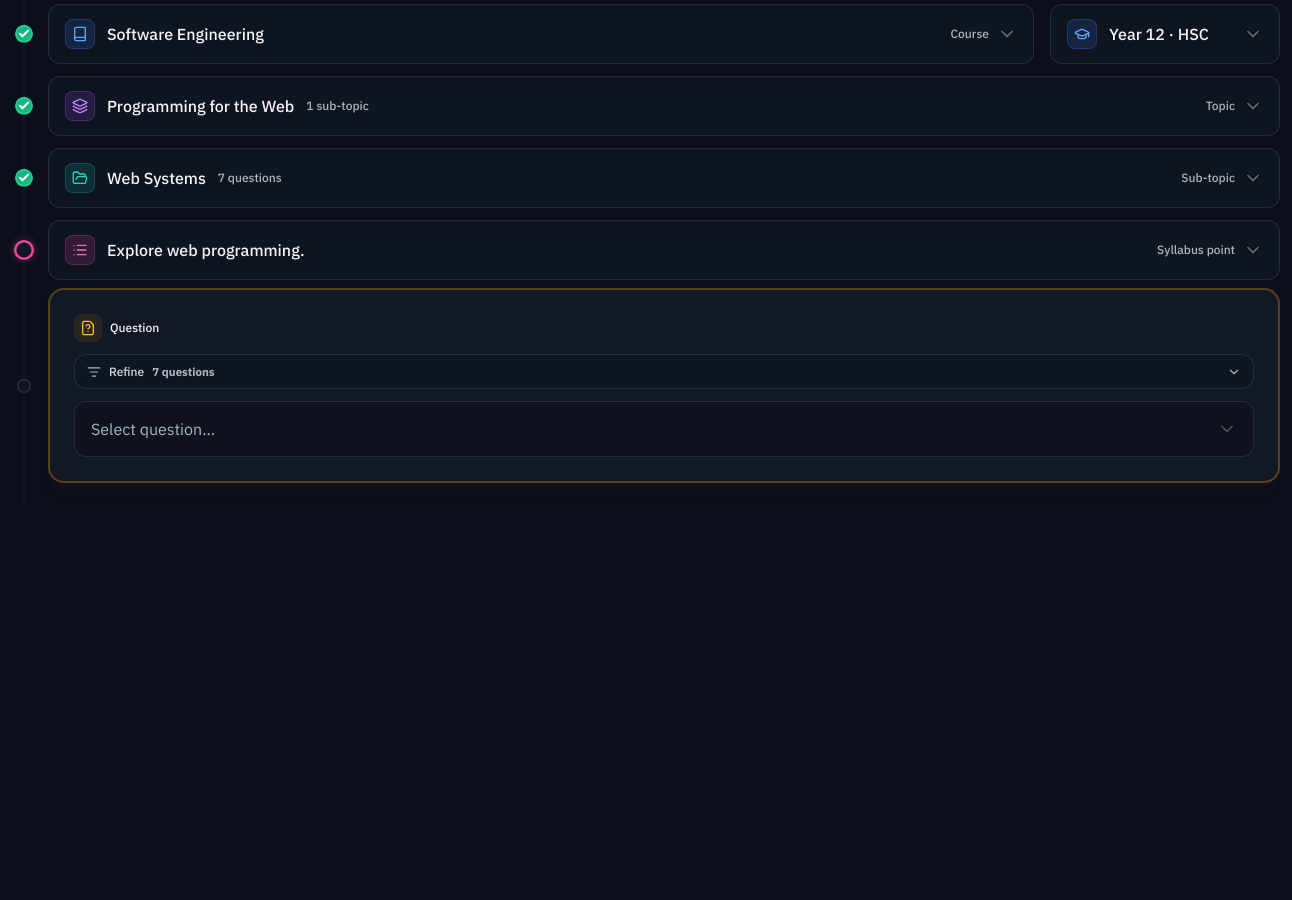
Test: the question picker, once it knows how the reader went › puts the reader’s own mark on a question they have answered
Click the button "Select question…".
click(153, 429)  # box 74,401 -> 1254,457
(page scrolled)
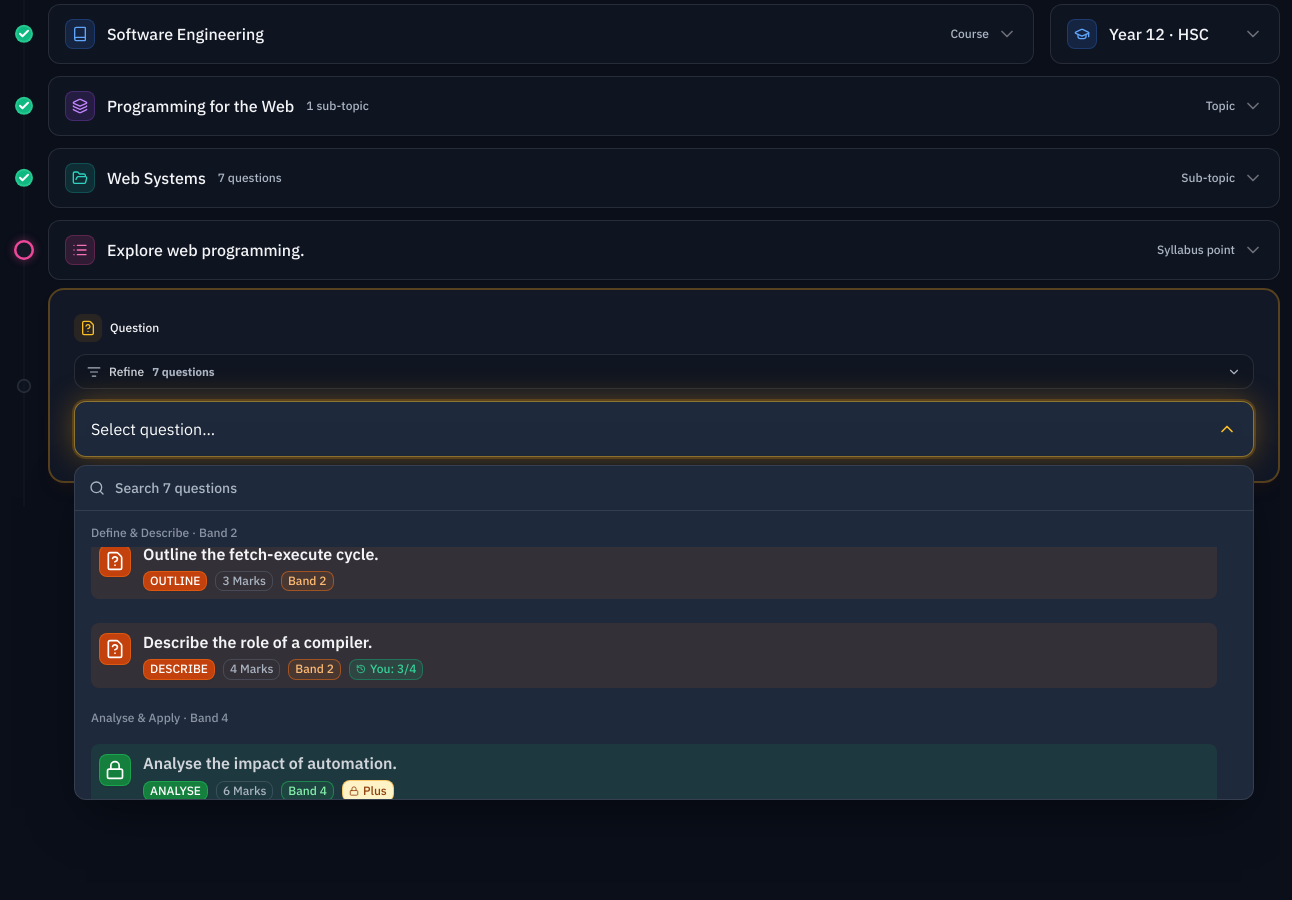
expect the option "You: 3/4" shows "role of a compiler": met, box 75,611 -> 1253,700
